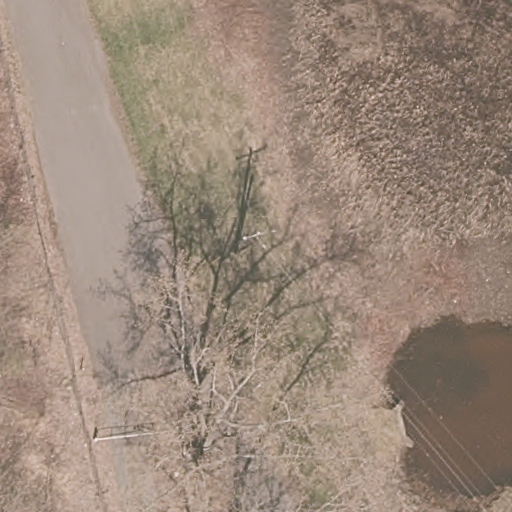DT: (240, 225, 279, 245)
